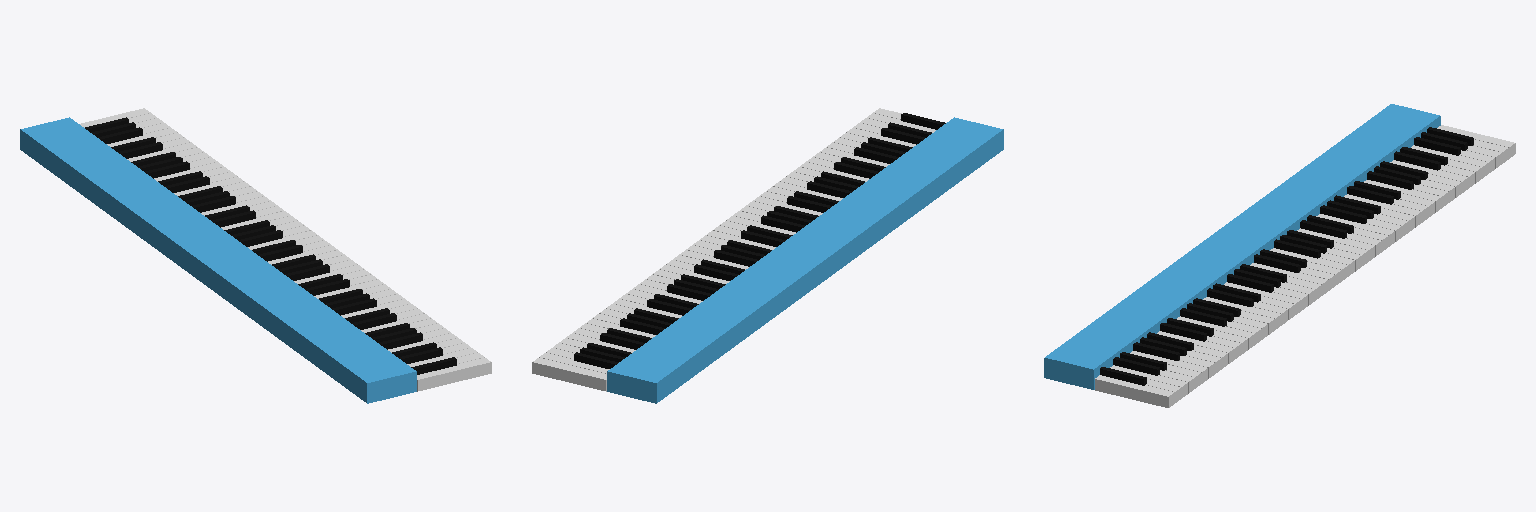
--- Render facts (derived) ---
Views: 3 orthographic renders of the robot side by side, from view 1: azimuth 30°, elevation 25°; view 2: azimuth 150°, elevation 25°; view 3: azimuth 330°, elevation 25°.
Robot: piano — 90 links, 89 joints (88 revolute, 1 fixed); root link base; default pose: every joint at zero.
Links seen in each view (by area): view 1: body, white_key_0; view 2: body, white_key_87; view 3: body, white_key_0.
Link boxes in pixels (box(x1,y1,x2,y2)): body: box(20, 117, 416, 403); white_key_0: box(417, 358, 491, 391); body: box(607, 117, 1003, 403); white_key_87: box(532, 358, 606, 391); body: box(1044, 104, 1440, 389); white_key_0: box(1095, 375, 1174, 407).
Size in the robot's own frame: 0.252 by 1.22 by 0.04 metres.
Geometry: primitives only (box / cylinder / sphere), no mesh files.

robot.urdf — piano:
<?xml version="1.0" encoding="utf-8"?>
<robot name="piano">
  <material name="white">
    <color rgba="0.9 0.9 0.9 1" />
  </material>
  <material name="black">
    <color rgba="0.1 0.1 0.1 1" />
  </material>

  <!-- Base link -->
  <link name="base">
  </link>

  <!-- Piano body -->
  <link name="body">
    <visual>
      <origin xyz="-0.127 0 0.02" rpy="0 0 0" />
      <geometry>
        <box size="0.1 1.2209999999999999 0.04" />
      </geometry>
    </visual>
    <collision>
      <origin xyz="-0.127 0 0.02" rpy="0 0 0" />
      <geometry>
        <box size="0.1 1.2209999999999999 0.04" />
      </geometry>
    </collision>
    <inertial>
      <origin xyz="-0.127 0 0.02" rpy="0 0 0" />
      <mass value="10.0" />
      <inertia ixx="0.1" ixy="0.0" ixz="0.0" iyy="0.1" iyz="0.0" izz="0.1" />
    </inertial>
  </link>

  <joint name="base_body_joint" type="fixed">
    <parent link="base" />
    <child link="body" />
    <origin xyz="0 0 0" rpy="0 0 0" />
  </joint>

  <link name="white_key_0">
    <visual>
      <origin xyz="0.075 0 0" rpy="0 0 0" />
      <geometry>
        <box size="0.15 0.0225 0.0225" />
      </geometry>
      <material name="white" />
    </visual>
    <collision>
      <origin xyz="0.075 0 0" rpy="0 0 0" />
      <geometry>
        <box size="0.15 0.0225 0.0225" />
      </geometry>
    </collision>
    <inertial>
      <origin xyz="0.075 0 0" rpy="0 0 0" />
      <mass value="0.04" />
      <inertia ixx="3.3750000000000003e-06" ixy="0.0" ixz="0.0" iyy="7.66875e-05" iyz="0.0" izz="7.66875e-05" />
    </inertial>
  </link>

  <joint name="white_key_0_joint" type="revolute">
    <parent link="base" />
    <child link="white_key_0" />
    <origin xyz="-0.075 -0.59925 0.01125" rpy="0 0 0" />
    <axis xyz="0 1 0" />
    <limit lower="0" upper="0.06656816377582381" effort="10.00" velocity="6.67" />
  </joint>

  <link name="white_key_2">
    <visual>
      <origin xyz="0.075 0 0" rpy="0 0 0" />
      <geometry>
        <box size="0.15 0.0225 0.0225" />
      </geometry>
      <material name="white" />
    </visual>
    <collision>
      <origin xyz="0.075 0 0" rpy="0 0 0" />
      <geometry>
        <box size="0.15 0.0225 0.0225" />
      </geometry>
    </collision>
    <inertial>
      <origin xyz="0.075 0 0" rpy="0 0 0" />
      <mass value="0.04" />
      <inertia ixx="3.3750000000000003e-06" ixy="0.0" ixz="0.0" iyy="7.66875e-05" iyz="0.0" izz="7.66875e-05" />
    </inertial>
  </link>

  <joint name="white_key_2_joint" type="revolute">
    <parent link="base" />
    <child link="white_key_2" />
    <origin xyz="-0.075 -0.57575 0.01125" rpy="0 0 0" />
    <axis xyz="0 1 0" />
    <limit lower="0" upper="0.06656816377582381" effort="10.00" velocity="6.67" />
  </joint>

  <link name="white_key_3">
    <visual>
      <origin xyz="0.075 0 0" rpy="0 0 0" />
      <geometry>
        <box size="0.15 0.0225 0.0225" />
      </geometry>
      <material name="white" />
    </visual>
    <collision>
      <origin xyz="0.075 0 0" rpy="0 0 0" />
      <geometry>
        <box size="0.15 0.0225 0.0225" />
      </geometry>
    </collision>
    <inertial>
      <origin xyz="0.075 0 0" rpy="0 0 0" />
      <mass value="0.04" />
      <inertia ixx="3.3750000000000003e-06" ixy="0.0" ixz="0.0" iyy="7.66875e-05" iyz="0.0" izz="7.66875e-05" />
    </inertial>
  </link>

  <joint name="white_key_3_joint" type="revolute">
    <parent link="base" />
    <child link="white_key_3" />
    <origin xyz="-0.075 -0.5522499999999999 0.01125" rpy="0 0 0" />
    <axis xyz="0 1 0" />
    <limit lower="0" upper="0.06656816377582381" effort="10.00" velocity="6.67" />
  </joint>

  <link name="white_key_5">
    <visual>
      <origin xyz="0.075 0 0" rpy="0 0 0" />
      <geometry>
        <box size="0.15 0.0225 0.0225" />
      </geometry>
      <material name="white" />
    </visual>
    <collision>
      <origin xyz="0.075 0 0" rpy="0 0 0" />
      <geometry>
        <box size="0.15 0.0225 0.0225" />
      </geometry>
    </collision>
    <inertial>
      <origin xyz="0.075 0 0" rpy="0 0 0" />
      <mass value="0.04" />
      <inertia ixx="3.3750000000000003e-06" ixy="0.0" ixz="0.0" iyy="7.66875e-05" iyz="0.0" izz="7.66875e-05" />
    </inertial>
  </link>

  <joint name="white_key_5_joint" type="revolute">
    <parent link="base" />
    <child link="white_key_5" />
    <origin xyz="-0.075 -0.5287499999999999 0.01125" rpy="0 0 0" />
    <axis xyz="0 1 0" />
    <limit lower="0" upper="0.06656816377582381" effort="10.00" velocity="6.67" />
  </joint>

  <link name="white_key_7">
    <visual>
      <origin xyz="0.075 0 0" rpy="0 0 0" />
      <geometry>
        <box size="0.15 0.0225 0.0225" />
      </geometry>
      <material name="white" />
    </visual>
    <collision>
      <origin xyz="0.075 0 0" rpy="0 0 0" />
      <geometry>
        <box size="0.15 0.0225 0.0225" />
      </geometry>
    </collision>
    <inertial>
      <origin xyz="0.075 0 0" rpy="0 0 0" />
      <mass value="0.04" />
      <inertia ixx="3.3750000000000003e-06" ixy="0.0" ixz="0.0" iyy="7.66875e-05" iyz="0.0" izz="7.66875e-05" />
    </inertial>
  </link>

  <joint name="white_key_7_joint" type="revolute">
    <parent link="base" />
    <child link="white_key_7" />
    <origin xyz="-0.075 -0.50525 0.01125" rpy="0 0 0" />
    <axis xyz="0 1 0" />
    <limit lower="0" upper="0.06656816377582381" effort="10.00" velocity="6.67" />
  </joint>

  <link name="white_key_8">
    <visual>
      <origin xyz="0.075 0 0" rpy="0 0 0" />
      <geometry>
        <box size="0.15 0.0225 0.0225" />
      </geometry>
      <material name="white" />
    </visual>
    <collision>
      <origin xyz="0.075 0 0" rpy="0 0 0" />
      <geometry>
        <box size="0.15 0.0225 0.0225" />
      </geometry>
    </collision>
    <inertial>
      <origin xyz="0.075 0 0" rpy="0 0 0" />
      <mass value="0.04" />
      <inertia ixx="3.3750000000000003e-06" ixy="0.0" ixz="0.0" iyy="7.66875e-05" iyz="0.0" izz="7.66875e-05" />
    </inertial>
  </link>

  <joint name="white_key_8_joint" type="revolute">
    <parent link="base" />
    <child link="white_key_8" />
    <origin xyz="-0.075 -0.48174999999999996 0.01125" rpy="0 0 0" />
    <axis xyz="0 1 0" />
    <limit lower="0" upper="0.06656816377582381" effort="10.00" velocity="6.67" />
  </joint>

  <link name="white_key_10">
    <visual>
      <origin xyz="0.075 0 0" rpy="0 0 0" />
      <geometry>
        <box size="0.15 0.0225 0.0225" />
      </geometry>
      <material name="white" />
    </visual>
    <collision>
      <origin xyz="0.075 0 0" rpy="0 0 0" />
      <geometry>
        <box size="0.15 0.0225 0.0225" />
      </geometry>
    </collision>
    <inertial>
      <origin xyz="0.075 0 0" rpy="0 0 0" />
      <mass value="0.04" />
      <inertia ixx="3.3750000000000003e-06" ixy="0.0" ixz="0.0" iyy="7.66875e-05" iyz="0.0" izz="7.66875e-05" />
    </inertial>
  </link>

  <joint name="white_key_10_joint" type="revolute">
    <parent link="base" />
    <child link="white_key_10" />
    <origin xyz="-0.075 -0.45824999999999994 0.01125" rpy="0 0 0" />
    <axis xyz="0 1 0" />
    <limit lower="0" upper="0.06656816377582381" effort="10.00" velocity="6.67" />
  </joint>

  <link name="white_key_12">
    <visual>
      <origin xyz="0.075 0 0" rpy="0 0 0" />
      <geometry>
        <box size="0.15 0.0225 0.0225" />
      </geometry>
      <material name="white" />
    </visual>
    <collision>
      <origin xyz="0.075 0 0" rpy="0 0 0" />
      <geometry>
        <box size="0.15 0.0225 0.0225" />
      </geometry>
    </collision>
    <inertial>
      <origin xyz="0.075 0 0" rpy="0 0 0" />
      <mass value="0.04" />
      <inertia ixx="3.3750000000000003e-06" ixy="0.0" ixz="0.0" iyy="7.66875e-05" iyz="0.0" izz="7.66875e-05" />
    </inertial>
  </link>

  <joint name="white_key_12_joint" type="revolute">
    <parent link="base" />
    <child link="white_key_12" />
    <origin xyz="-0.075 -0.43474999999999997 0.01125" rpy="0 0 0" />
    <axis xyz="0 1 0" />
    <limit lower="0" upper="0.06656816377582381" effort="10.00" velocity="6.67" />
  </joint>

  <link name="white_key_14">
    <visual>
      <origin xyz="0.075 0 0" rpy="0 0 0" />
      <geometry>
        <box size="0.15 0.0225 0.0225" />
      </geometry>
      <material name="white" />
    </visual>
    <collision>
      <origin xyz="0.075 0 0" rpy="0 0 0" />
      <geometry>
        <box size="0.15 0.0225 0.0225" />
      </geometry>
    </collision>
    <inertial>
      <origin xyz="0.075 0 0" rpy="0 0 0" />
      <mass value="0.04" />
      <inertia ixx="3.3750000000000003e-06" ixy="0.0" ixz="0.0" iyy="7.66875e-05" iyz="0.0" izz="7.66875e-05" />
    </inertial>
  </link>

  <joint name="white_key_14_joint" type="revolute">
    <parent link="base" />
    <child link="white_key_14" />
    <origin xyz="-0.075 -0.41124999999999995 0.01125" rpy="0 0 0" />
    <axis xyz="0 1 0" />
    <limit lower="0" upper="0.06656816377582381" effort="10.00" velocity="6.67" />
  </joint>

  <link name="white_key_15">
    <visual>
      <origin xyz="0.075 0 0" rpy="0 0 0" />
      <geometry>
        <box size="0.15 0.0225 0.0225" />
      </geometry>
      <material name="white" />
    </visual>
    <collision>
      <origin xyz="0.075 0 0" rpy="0 0 0" />
      <geometry>
        <box size="0.15 0.0225 0.0225" />
      </geometry>
    </collision>
    <inertial>
      <origin xyz="0.075 0 0" rpy="0 0 0" />
      <mass value="0.04" />
      <inertia ixx="3.3750000000000003e-06" ixy="0.0" ixz="0.0" iyy="7.66875e-05" iyz="0.0" izz="7.66875e-05" />
    </inertial>
  </link>

  <joint name="white_key_15_joint" type="revolute">
    <parent link="base" />
    <child link="white_key_15" />
    <origin xyz="-0.075 -0.38774999999999993 0.01125" rpy="0 0 0" />
    <axis xyz="0 1 0" />
    <limit lower="0" upper="0.06656816377582381" effort="10.00" velocity="6.67" />
  </joint>

  <link name="white_key_17">
    <visual>
      <origin xyz="0.075 0 0" rpy="0 0 0" />
      <geometry>
        <box size="0.15 0.0225 0.0225" />
      </geometry>
      <material name="white" />
    </visual>
    <collision>
      <origin xyz="0.075 0 0" rpy="0 0 0" />
      <geometry>
        <box size="0.15 0.0225 0.0225" />
      </geometry>
    </collision>
    <inertial>
      <origin xyz="0.075 0 0" rpy="0 0 0" />
      <mass value="0.04" />
      <inertia ixx="3.3750000000000003e-06" ixy="0.0" ixz="0.0" iyy="7.66875e-05" iyz="0.0" izz="7.66875e-05" />
    </inertial>
  </link>

  <joint name="white_key_17_joint" type="revolute">
    <parent link="base" />
    <child link="white_key_17" />
    <origin xyz="-0.075 -0.36424999999999996 0.01125" rpy="0 0 0" />
    <axis xyz="0 1 0" />
    <limit lower="0" upper="0.06656816377582381" effort="10.00" velocity="6.67" />
  </joint>

  <link name="white_key_19">
    <visual>
      <origin xyz="0.075 0 0" rpy="0 0 0" />
      <geometry>
        <box size="0.15 0.0225 0.0225" />
      </geometry>
      <material name="white" />
    </visual>
    <collision>
      <origin xyz="0.075 0 0" rpy="0 0 0" />
      <geometry>
        <box size="0.15 0.0225 0.0225" />
      </geometry>
    </collision>
    <inertial>
      <origin xyz="0.075 0 0" rpy="0 0 0" />
      <mass value="0.04" />
      <inertia ixx="3.3750000000000003e-06" ixy="0.0" ixz="0.0" iyy="7.66875e-05" iyz="0.0" izz="7.66875e-05" />
    </inertial>
  </link>

  <joint name="white_key_19_joint" type="revolute">
    <parent link="base" />
    <child link="white_key_19" />
    <origin xyz="-0.075 -0.34074999999999994 0.01125" rpy="0 0 0" />
    <axis xyz="0 1 0" />
    <limit lower="0" upper="0.06656816377582381" effort="10.00" velocity="6.67" />
  </joint>

  <link name="white_key_20">
    <visual>
      <origin xyz="0.075 0 0" rpy="0 0 0" />
      <geometry>
        <box size="0.15 0.0225 0.0225" />
      </geometry>
      <material name="white" />
    </visual>
    <collision>
      <origin xyz="0.075 0 0" rpy="0 0 0" />
      <geometry>
        <box size="0.15 0.0225 0.0225" />
      </geometry>
    </collision>
    <inertial>
      <origin xyz="0.075 0 0" rpy="0 0 0" />
      <mass value="0.04" />
      <inertia ixx="3.3750000000000003e-06" ixy="0.0" ixz="0.0" iyy="7.66875e-05" iyz="0.0" izz="7.66875e-05" />
    </inertial>
  </link>

  <joint name="white_key_20_joint" type="revolute">
    <parent link="base" />
    <child link="white_key_20" />
    <origin xyz="-0.075 -0.3172499999999999 0.01125" rpy="0 0 0" />
    <axis xyz="0 1 0" />
    <limit lower="0" upper="0.06656816377582381" effort="10.00" velocity="6.67" />
  </joint>

  <link name="white_key_22">
    <visual>
      <origin xyz="0.075 0 0" rpy="0 0 0" />
      <geometry>
        <box size="0.15 0.0225 0.0225" />
      </geometry>
      <material name="white" />
    </visual>
    <collision>
      <origin xyz="0.075 0 0" rpy="0 0 0" />
      <geometry>
        <box size="0.15 0.0225 0.0225" />
      </geometry>
    </collision>
    <inertial>
      <origin xyz="0.075 0 0" rpy="0 0 0" />
      <mass value="0.04" />
      <inertia ixx="3.3750000000000003e-06" ixy="0.0" ixz="0.0" iyy="7.66875e-05" iyz="0.0" izz="7.66875e-05" />
    </inertial>
  </link>

  <joint name="white_key_22_joint" type="revolute">
    <parent link="base" />
    <child link="white_key_22" />
    <origin xyz="-0.075 -0.29374999999999996 0.01125" rpy="0 0 0" />
    <axis xyz="0 1 0" />
    <limit lower="0" upper="0.06656816377582381" effort="10.00" velocity="6.67" />
  </joint>

  <link name="white_key_24">
    <visual>
      <origin xyz="0.075 0 0" rpy="0 0 0" />
      <geometry>
        <box size="0.15 0.0225 0.0225" />
      </geometry>
      <material name="white" />
    </visual>
    <collision>
      <origin xyz="0.075 0 0" rpy="0 0 0" />
      <geometry>
        <box size="0.15 0.0225 0.0225" />
      </geometry>
    </collision>
    <inertial>
      <origin xyz="0.075 0 0" rpy="0 0 0" />
      <mass value="0.04" />
      <inertia ixx="3.3750000000000003e-06" ixy="0.0" ixz="0.0" iyy="7.66875e-05" iyz="0.0" izz="7.66875e-05" />
    </inertial>
  </link>

  <joint name="white_key_24_joint" type="revolute">
    <parent link="base" />
    <child link="white_key_24" />
    <origin xyz="-0.075 -0.27024999999999993 0.01125" rpy="0 0 0" />
    <axis xyz="0 1 0" />
    <limit lower="0" upper="0.06656816377582381" effort="10.00" velocity="6.67" />
  </joint>

  <link name="white_key_26">
    <visual>
      <origin xyz="0.075 0 0" rpy="0 0 0" />
      <geometry>
        <box size="0.15 0.0225 0.0225" />
      </geometry>
      <material name="white" />
    </visual>
    <collision>
      <origin xyz="0.075 0 0" rpy="0 0 0" />
      <geometry>
        <box size="0.15 0.0225 0.0225" />
      </geometry>
    </collision>
    <inertial>
      <origin xyz="0.075 0 0" rpy="0 0 0" />
      <mass value="0.04" />
      <inertia ixx="3.3750000000000003e-06" ixy="0.0" ixz="0.0" iyy="7.66875e-05" iyz="0.0" izz="7.66875e-05" />
    </inertial>
  </link>

  <joint name="white_key_26_joint" type="revolute">
    <parent link="base" />
    <child link="white_key_26" />
    <origin xyz="-0.075 -0.24674999999999997 0.01125" rpy="0 0 0" />
    <axis xyz="0 1 0" />
    <limit lower="0" upper="0.06656816377582381" effort="10.00" velocity="6.67" />
  </joint>

  <link name="white_key_27">
    <visual>
      <origin xyz="0.075 0 0" rpy="0 0 0" />
      <geometry>
        <box size="0.15 0.0225 0.0225" />
      </geometry>
      <material name="white" />
    </visual>
    <collision>
      <origin xyz="0.075 0 0" rpy="0 0 0" />
      <geometry>
        <box size="0.15 0.0225 0.0225" />
      </geometry>
    </collision>
    <inertial>
      <origin xyz="0.075 0 0" rpy="0 0 0" />
      <mass value="0.04" />
      <inertia ixx="3.3750000000000003e-06" ixy="0.0" ixz="0.0" iyy="7.66875e-05" iyz="0.0" izz="7.66875e-05" />
    </inertial>
  </link>

  <joint name="white_key_27_joint" type="revolute">
    <parent link="base" />
    <child link="white_key_27" />
    <origin xyz="-0.075 -0.22324999999999995 0.01125" rpy="0 0 0" />
    <axis xyz="0 1 0" />
    <limit lower="0" upper="0.06656816377582381" effort="10.00" velocity="6.67" />
  </joint>

  <link name="white_key_29">
    <visual>
      <origin xyz="0.075 0 0" rpy="0 0 0" />
      <geometry>
        <box size="0.15 0.0225 0.0225" />
      </geometry>
      <material name="white" />
    </visual>
    <collision>
      <origin xyz="0.075 0 0" rpy="0 0 0" />
      <geometry>
        <box size="0.15 0.0225 0.0225" />
      </geometry>
    </collision>
    <inertial>
      <origin xyz="0.075 0 0" rpy="0 0 0" />
      <mass value="0.04" />
      <inertia ixx="3.3750000000000003e-06" ixy="0.0" ixz="0.0" iyy="7.66875e-05" iyz="0.0" izz="7.66875e-05" />
    </inertial>
  </link>

  <joint name="white_key_29_joint" type="revolute">
    <parent link="base" />
    <child link="white_key_29" />
    <origin xyz="-0.075 -0.19974999999999993 0.01125" rpy="0 0 0" />
    <axis xyz="0 1 0" />
    <limit lower="0" upper="0.06656816377582381" effort="10.00" velocity="6.67" />
  </joint>

  <link name="white_key_31">
    <visual>
      <origin xyz="0.075 0 0" rpy="0 0 0" />
      <geometry>
        <box size="0.15 0.0225 0.0225" />
      </geometry>
      <material name="white" />
    </visual>
    <collision>
      <origin xyz="0.075 0 0" rpy="0 0 0" />
      <geometry>
        <box size="0.15 0.0225 0.0225" />
      </geometry>
    </collision>
    <inertial>
      <origin xyz="0.075 0 0" rpy="0 0 0" />
      <mass value="0.04" />
      <inertia ixx="3.3750000000000003e-06" ixy="0.0" ixz="0.0" iyy="7.66875e-05" iyz="0.0" izz="7.66875e-05" />
    </inertial>
  </link>

  <joint name="white_key_31_joint" type="revolute">
    <parent link="base" />
    <child link="white_key_31" />
    <origin xyz="-0.075 -0.17624999999999996 0.01125" rpy="0 0 0" />
    <axis xyz="0 1 0" />
    <limit lower="0" upper="0.06656816377582381" effort="10.00" velocity="6.67" />
  </joint>

  <link name="white_key_32">
    <visual>
      <origin xyz="0.075 0 0" rpy="0 0 0" />
      <geometry>
        <box size="0.15 0.0225 0.0225" />
      </geometry>
      <material name="white" />
    </visual>
    <collision>
      <origin xyz="0.075 0 0" rpy="0 0 0" />
      <geometry>
        <box size="0.15 0.0225 0.0225" />
      </geometry>
    </collision>
    <inertial>
      <origin xyz="0.075 0 0" rpy="0 0 0" />
      <mass value="0.04" />
      <inertia ixx="3.3750000000000003e-06" ixy="0.0" ixz="0.0" iyy="7.66875e-05" iyz="0.0" izz="7.66875e-05" />
    </inertial>
  </link>

  <joint name="white_key_32_joint" type="revolute">
    <parent link="base" />
    <child link="white_key_32" />
    <origin xyz="-0.075 -0.15274999999999994 0.01125" rpy="0 0 0" />
    <axis xyz="0 1 0" />
    <limit lower="0" upper="0.06656816377582381" effort="10.00" velocity="6.67" />
  </joint>

  <link name="white_key_34">
    <visual>
      <origin xyz="0.075 0 0" rpy="0 0 0" />
      <geometry>
        <box size="0.15 0.0225 0.0225" />
      </geometry>
      <material name="white" />
    </visual>
    <collision>
      <origin xyz="0.075 0 0" rpy="0 0 0" />
      <geometry>
        <box size="0.15 0.0225 0.0225" />
      </geometry>
    </collision>
    <inertial>
      <origin xyz="0.075 0 0" rpy="0 0 0" />
      <mass value="0.04" />
      <inertia ixx="3.3750000000000003e-06" ixy="0.0" ixz="0.0" iyy="7.66875e-05" iyz="0.0" izz="7.66875e-05" />
    </inertial>
  </link>

  <joint name="white_key_34_joint" type="revolute">
    <parent link="base" />
    <child link="white_key_34" />
    <origin xyz="-0.075 -0.12924999999999998 0.01125" rpy="0 0 0" />
    <axis xyz="0 1 0" />
    <limit lower="0" upper="0.06656816377582381" effort="10.00" velocity="6.67" />
  </joint>

  <link name="white_key_36">
    <visual>
      <origin xyz="0.075 0 0" rpy="0 0 0" />
      <geometry>
        <box size="0.15 0.0225 0.0225" />
      </geometry>
      <material name="white" />
    </visual>
    <collision>
      <origin xyz="0.075 0 0" rpy="0 0 0" />
      <geometry>
        <box size="0.15 0.0225 0.0225" />
      </geometry>
    </collision>
    <inertial>
      <origin xyz="0.075 0 0" rpy="0 0 0" />
      <mass value="0.04" />
      <inertia ixx="3.3750000000000003e-06" ixy="0.0" ixz="0.0" iyy="7.66875e-05" iyz="0.0" izz="7.66875e-05" />
    </inertial>
  </link>

  <joint name="white_key_36_joint" type="revolute">
    <parent link="base" />
    <child link="white_key_36" />
    <origin xyz="-0.075 -0.10574999999999996 0.01125" rpy="0 0 0" />
    <axis xyz="0 1 0" />
    <limit lower="0" upper="0.06656816377582381" effort="10.00" velocity="6.67" />
  </joint>

  <link name="white_key_38">
    <visual>
      <origin xyz="0.075 0 0" rpy="0 0 0" />
      <geometry>
        <box size="0.15 0.0225 0.0225" />
      </geometry>
      <material name="white" />
    </visual>
    <collision>
      <origin xyz="0.075 0 0" rpy="0 0 0" />
      <geometry>
        <box size="0.15 0.0225 0.0225" />
      </geometry>
    </collision>
    <inertial>
      <origin xyz="0.075 0 0" rpy="0 0 0" />
      <mass value="0.04" />
      <inertia ixx="3.3750000000000003e-06" ixy="0.0" ixz="0.0" iyy="7.66875e-05" iyz="0.0" izz="7.66875e-05" />
    </inertial>
  </link>

  <joint name="white_key_38_joint" type="revolute">
    <parent link="base" />
    <child link="white_key_38" />
    <origin xyz="-0.075 -0.08224999999999993 0.01125" rpy="0 0 0" />
    <axis xyz="0 1 0" />
    <limit lower="0" upper="0.06656816377582381" effort="10.00" velocity="6.67" />
  </joint>

  <link name="white_key_39">
    <visual>
      <origin xyz="0.075 0 0" rpy="0 0 0" />
      <geometry>
        <box size="0.15 0.0225 0.0225" />
      </geometry>
      <material name="white" />
    </visual>
    <collision>
      <origin xyz="0.075 0 0" rpy="0 0 0" />
      <geometry>
        <box size="0.15 0.0225 0.0225" />
      </geometry>
    </collision>
    <inertial>
      <origin xyz="0.075 0 0" rpy="0 0 0" />
      <mass value="0.04" />
      <inertia ixx="3.3750000000000003e-06" ixy="0.0" ixz="0.0" iyy="7.66875e-05" iyz="0.0" izz="7.66875e-05" />
    </inertial>
  </link>

  <joint name="white_key_39_joint" type="revolute">
    <parent link="base" />
    <child link="white_key_39" />
    <origin xyz="-0.075 -0.05874999999999997 0.01125" rpy="0 0 0" />
    <axis xyz="0 1 0" />
    <limit lower="0" upper="0.06656816377582381" effort="10.00" velocity="6.67" />
  </joint>

  <link name="white_key_41">
    <visual>
      <origin xyz="0.075 0 0" rpy="0 0 0" />
      <geometry>
        <box size="0.15 0.0225 0.0225" />
      </geometry>
      <material name="white" />
    </visual>
    <collision>
      <origin xyz="0.075 0 0" rpy="0 0 0" />
      <geometry>
        <box size="0.15 0.0225 0.0225" />
      </geometry>
    </collision>
    <inertial>
      <origin xyz="0.075 0 0" rpy="0 0 0" />
      <mass value="0.04" />
      <inertia ixx="3.3750000000000003e-06" ixy="0.0" ixz="0.0" iyy="7.66875e-05" iyz="0.0" izz="7.66875e-05" />
    </inertial>
  </link>

  <joint name="white_key_41_joint" type="revolute">
    <parent link="base" />
    <child link="white_key_41" />
    <origin xyz="-0.075 -0.03524999999999989 0.01125" rpy="0 0 0" />
    <axis xyz="0 1 0" />
    <limit lower="0" upper="0.06656816377582381" effort="10.00" velocity="6.67" />
  </joint>

  <link name="white_key_43">
    <visual>
      <origin xyz="0.075 0 0" rpy="0 0 0" />
      <geometry>
        <box size="0.15 0.0225 0.0225" />
      </geometry>
      <material name="white" />
    </visual>
    <collision>
      <origin xyz="0.075 0 0" rpy="0 0 0" />
      <geometry>
        <box size="0.15 0.0225 0.0225" />
      </geometry>
    </collision>
    <inertial>
      <origin xyz="0.075 0 0" rpy="0 0 0" />
      <mass value="0.04" />
      <inertia ixx="3.3750000000000003e-06" ixy="0.0" ixz="0.0" iyy="7.66875e-05" iyz="0.0" izz="7.66875e-05" />
    </inertial>
  </link>

  <joint name="white_key_43_joint" type="revolute">
    <parent link="base" />
    <child link="white_key_43" />
    <origin xyz="-0.075 -0.011749999999999927 0.01125" rpy="0 0 0" />
    <axis xyz="0 1 0" />
    <limit lower="0" upper="0.06656816377582381" effort="10.00" velocity="6.67" />
  </joint>

  <link name="white_key_44">
    <visual>
      <origin xyz="0.075 0 0" rpy="0 0 0" />
      <geometry>
        <box size="0.15 0.0225 0.0225" />
      </geometry>
      <material name="white" />
    </visual>
    <collision>
      <origin xyz="0.075 0 0" rpy="0 0 0" />
      <geometry>
        <box size="0.15 0.0225 0.0225" />
      </geometry>
    </collision>
    <inertial>
      <origin xyz="0.075 0 0" rpy="0 0 0" />
      <mass value="0.04" />
      <inertia ixx="3.3750000000000003e-06" ixy="0.0" ixz="0.0" iyy="7.66875e-05" iyz="0.0" izz="7.66875e-05" />
    </inertial>
  </link>

  <joint name="white_key_44_joint" type="revolute">
    <parent link="base" />
    <child link="white_key_44" />
    <origin xyz="-0.075 0.011750000000000038 0.01125" rpy="0 0 0" />
    <axis xyz="0 1 0" />
    <limit lower="0" upper="0.06656816377582381" effort="10.00" velocity="6.67" />
  </joint>

  <link name="white_key_46">
    <visual>
      <origin xyz="0.075 0 0" rpy="0 0 0" />
      <geometry>
        <box size="0.15 0.0225 0.0225" />
      </geometry>
      <material name="white" />
    </visual>
    <collision>
      <origin xyz="0.075 0 0" rpy="0 0 0" />
      <geometry>
        <box size="0.15 0.0225 0.0225" />
      </geometry>
    </collision>
    <inertial>
      <origin xyz="0.075 0 0" rpy="0 0 0" />
      <mass value="0.04" />
      <inertia ixx="3.3750000000000003e-06" ixy="0.0" ixz="0.0" iyy="7.66875e-05" iyz="0.0" izz="7.66875e-05" />
    </inertial>
  </link>

  <joint name="white_key_46_joint" type="revolute">
    <parent link="base" />
    <child link="white_key_46" />
    <origin xyz="-0.075 0.035250000000000004 0.01125" rpy="0 0 0" />
    <axis xyz="0 1 0" />
    <limit lower="0" upper="0.06656816377582381" effort="10.00" velocity="6.67" />
  </joint>

  <link name="white_key_48">
    <visual>
      <origin xyz="0.075 0 0" rpy="0 0 0" />
      <geometry>
        <box size="0.15 0.0225 0.0225" />
      </geometry>
      <material name="white" />
    </visual>
    <collision>
      <origin xyz="0.075 0 0" rpy="0 0 0" />
      <geometry>
        <box size="0.15 0.0225 0.0225" />
      </geometry>
    </collision>
    <inertial>
      <origin xyz="0.075 0 0" rpy="0 0 0" />
      <mass value="0.04" />
      <inertia ixx="3.3750000000000003e-06" ixy="0.0" ixz="0.0" iyy="7.66875e-05" iyz="0.0" izz="7.66875e-05" />
    </inertial>
  </link>

  <joint name="white_key_48_joint" type="revolute">
    <parent link="base" />
    <child link="white_key_48" />
    <origin xyz="-0.075 0.05875000000000008 0.01125" rpy="0 0 0" />
    <axis xyz="0 1 0" />
    <limit lower="0" upper="0.06656816377582381" effort="10.00" velocity="6.67" />
  </joint>

  <link name="white_key_50">
    <visual>
      <origin xyz="0.075 0 0" rpy="0 0 0" />
      <geometry>
        <box size="0.15 0.0225 0.0225" />
      </geometry>
      <material name="white" />
    </visual>
    <collision>
      <origin xyz="0.075 0 0" rpy="0 0 0" />
      <geometry>
        <box size="0.15 0.0225 0.0225" />
      </geometry>
    </collision>
    <inertial>
      <origin xyz="0.075 0 0" rpy="0 0 0" />
      <mass value="0.04" />
      <inertia ixx="3.3750000000000003e-06" ixy="0.0" ixz="0.0" iyy="7.66875e-05" iyz="0.0" izz="7.66875e-05" />
    </inertial>
  </link>

  <joint name="white_key_50_joint" type="revolute">
    <parent link="base" />
    <child link="white_key_50" />
    <origin xyz="-0.075 0.08225000000000005 0.01125" rpy="0 0 0" />
    <axis xyz="0 1 0" />
    <limit lower="0" upper="0.06656816377582381" effort="10.00" velocity="6.67" />
  </joint>

  <link name="white_key_51">
    <visual>
      <origin xyz="0.075 0 0" rpy="0 0 0" />
      <geometry>
        <box size="0.15 0.0225 0.0225" />
      </geometry>
      <material name="white" />
    </visual>
    <collision>
      <origin xyz="0.075 0 0" rpy="0 0 0" />
      <geometry>
        <box size="0.15 0.0225 0.0225" />
      </geometry>
    </collision>
    <inertial>
      <origin xyz="0.075 0 0" rpy="0 0 0" />
      <mass value="0.04" />
      <inertia ixx="3.3750000000000003e-06" ixy="0.0" ixz="0.0" iyy="7.66875e-05" iyz="0.0" izz="7.66875e-05" />
    </inertial>
  </link>

  <joint name="white_key_51_joint" type="revolute">
    <parent link="base" />
    <child link="white_key_51" />
    <origin xyz="-0.075 0.10575000000000001 0.01125" rpy="0 0 0" />
    <axis xyz="0 1 0" />
    <limit lower="0" upper="0.06656816377582381" effort="10.00" velocity="6.67" />
  </joint>

  <link name="white_key_53">
    <visual>
      <origin xyz="0.075 0 0" rpy="0 0 0" />
      <geometry>
        <box size="0.15 0.0225 0.0225" />
      </geometry>
      <material name="white" />
    </visual>
    <collision>
      <origin xyz="0.075 0 0" rpy="0 0 0" />
      <geometry>
        <box size="0.15 0.0225 0.0225" />
      </geometry>
    </collision>
    <inertial>
      <origin xyz="0.075 0 0" rpy="0 0 0" />
      <mass value="0.04" />
      <inertia ixx="3.3750000000000003e-06" ixy="0.0" ixz="0.0" iyy="7.66875e-05" iyz="0.0" izz="7.66875e-05" />
    </inertial>
  </link>

  <joint name="white_key_53_joint" type="revolute">
    <parent link="base" />
    <child link="white_key_53" />
    <origin xyz="-0.075 0.1292500000000001 0.01125" rpy="0 0 0" />
    <axis xyz="0 1 0" />
    <limit lower="0" upper="0.06656816377582381" effort="10.00" velocity="6.67" />
  </joint>

  <link name="white_key_55">
    <visual>
      <origin xyz="0.075 0 0" rpy="0 0 0" />
      <geometry>
        <box size="0.15 0.0225 0.0225" />
      </geometry>
      <material name="white" />
    </visual>
    <collision>
      <origin xyz="0.075 0 0" rpy="0 0 0" />
      <geometry>
        <box size="0.15 0.0225 0.0225" />
      </geometry>
    </collision>
    <inertial>
      <origin xyz="0.075 0 0" rpy="0 0 0" />
      <mass value="0.04" />
      <inertia ixx="3.3750000000000003e-06" ixy="0.0" ixz="0.0" iyy="7.66875e-05" iyz="0.0" izz="7.66875e-05" />
    </inertial>
  </link>

  <joint name="white_key_55_joint" type="revolute">
    <parent link="base" />
    <child link="white_key_55" />
    <origin xyz="-0.075 0.15275000000000005 0.01125" rpy="0 0 0" />
    <axis xyz="0 1 0" />
    <limit lower="0" upper="0.06656816377582381" effort="10.00" velocity="6.67" />
  </joint>

  <link name="white_key_56">
    <visual>
      <origin xyz="0.075 0 0" rpy="0 0 0" />
      <geometry>
        <box size="0.15 0.0225 0.0225" />
      </geometry>
      <material name="white" />
    </visual>
    <collision>
      <origin xyz="0.075 0 0" rpy="0 0 0" />
      <geometry>
        <box size="0.15 0.0225 0.0225" />
      </geometry>
    </collision>
    <inertial>
      <origin xyz="0.075 0 0" rpy="0 0 0" />
      <mass value="0.04" />
      <inertia ixx="3.3750000000000003e-06" ixy="0.0" ixz="0.0" iyy="7.66875e-05" iyz="0.0" izz="7.66875e-05" />
    </inertial>
  </link>

  <joint name="white_key_56_joint" type="revolute">
    <parent link="base" />
    <child link="white_key_56" />
    <origin xyz="-0.075 0.17625000000000002 0.01125" rpy="0 0 0" />
    <axis xyz="0 1 0" />
    <limit lower="0" upper="0.06656816377582381" effort="10.00" velocity="6.67" />
  </joint>

  <link name="white_key_58">
    <visual>
      <origin xyz="0.075 0 0" rpy="0 0 0" />
      <geometry>
        <box size="0.15 0.0225 0.0225" />
      </geometry>
      <material name="white" />
    </visual>
    <collision>
      <origin xyz="0.075 0 0" rpy="0 0 0" />
      <geometry>
        <box size="0.15 0.0225 0.0225" />
      </geometry>
    </collision>
    <inertial>
      <origin xyz="0.075 0 0" rpy="0 0 0" />
      <mass value="0.04" />
      <inertia ixx="3.3750000000000003e-06" ixy="0.0" ixz="0.0" iyy="7.66875e-05" iyz="0.0" izz="7.66875e-05" />
    </inertial>
  </link>

  <joint name="white_key_58_joint" type="revolute">
    <parent link="base" />
    <child link="white_key_58" />
    <origin xyz="-0.075 0.1997500000000001 0.01125" rpy="0 0 0" />
    <axis xyz="0 1 0" />
    <limit lower="0" upper="0.06656816377582381" effort="10.00" velocity="6.67" />
  </joint>

  <link name="white_key_60">
    <visual>
      <origin xyz="0.075 0 0" rpy="0 0 0" />
      <geometry>
        <box size="0.15 0.0225 0.0225" />
      </geometry>
      <material name="white" />
    </visual>
    <collision>
      <origin xyz="0.075 0 0" rpy="0 0 0" />
      <geometry>
        <box size="0.15 0.0225 0.0225" />
      </geometry>
    </collision>
    <inertial>
      <origin xyz="0.075 0 0" rpy="0 0 0" />
      <mass value="0.04" />
      <inertia ixx="3.3750000000000003e-06" ixy="0.0" ixz="0.0" iyy="7.66875e-05" iyz="0.0" izz="7.66875e-05" />
    </inertial>
  </link>

  <joint name="white_key_60_joint" type="revolute">
    <parent link="base" />
    <child link="white_key_60" />
    <origin xyz="-0.075 0.22325000000000006 0.01125" rpy="0 0 0" />
    <axis xyz="0 1 0" />
    <limit lower="0" upper="0.06656816377582381" effort="10.00" velocity="6.67" />
  </joint>

  <link name="white_key_62">
    <visual>
      <origin xyz="0.075 0 0" rpy="0 0 0" />
      <geometry>
        <box size="0.15 0.0225 0.0225" />
      </geometry>
      <material name="white" />
    </visual>
    <collision>
      <origin xyz="0.075 0 0" rpy="0 0 0" />
      <geometry>
        <box size="0.15 0.0225 0.0225" />
      </geometry>
    </collision>
    <inertial>
      <origin xyz="0.075 0 0" rpy="0 0 0" />
      <mass value="0.04" />
      <inertia ixx="3.3750000000000003e-06" ixy="0.0" ixz="0.0" iyy="7.66875e-05" iyz="0.0" izz="7.66875e-05" />
    </inertial>
  </link>

  <joint name="white_key_62_joint" type="revolute">
    <parent link="base" />
    <child link="white_key_62" />
    <origin xyz="-0.075 0.24675000000000002 0.01125" rpy="0 0 0" />
    <axis xyz="0 1 0" />
    <limit lower="0" upper="0.06656816377582381" effort="10.00" velocity="6.67" />
  </joint>

  <link name="white_key_63">
    <visual>
      <origin xyz="0.075 0 0" rpy="0 0 0" />
      <geometry>
        <box size="0.15 0.0225 0.0225" />
      </geometry>
      <material name="white" />
    </visual>
    <collision>
      <origin xyz="0.075 0 0" rpy="0 0 0" />
      <geometry>
        <box size="0.15 0.0225 0.0225" />
      </geometry>
    </collision>
    <inertial>
      <origin xyz="0.075 0 0" rpy="0 0 0" />
      <mass value="0.04" />
      <inertia ixx="3.3750000000000003e-06" ixy="0.0" ixz="0.0" iyy="7.66875e-05" iyz="0.0" izz="7.66875e-05" />
    </inertial>
  </link>

  <joint name="white_key_63_joint" type="revolute">
    <parent link="base" />
    <child link="white_key_63" />
    <origin xyz="-0.075 0.2702500000000001 0.01125" rpy="0 0 0" />
    <axis xyz="0 1 0" />
    <limit lower="0" upper="0.06656816377582381" effort="10.00" velocity="6.67" />
  </joint>

  <link name="white_key_65">
    <visual>
      <origin xyz="0.075 0 0" rpy="0 0 0" />
      <geometry>
        <box size="0.15 0.0225 0.0225" />
      </geometry>
      <material name="white" />
    </visual>
    <collision>
      <origin xyz="0.075 0 0" rpy="0 0 0" />
      <geometry>
        <box size="0.15 0.0225 0.0225" />
      </geometry>
    </collision>
    <inertial>
      <origin xyz="0.075 0 0" rpy="0 0 0" />
      <mass value="0.04" />
      <inertia ixx="3.3750000000000003e-06" ixy="0.0" ixz="0.0" iyy="7.66875e-05" iyz="0.0" izz="7.66875e-05" />
    </inertial>
  </link>

  <joint name="white_key_65_joint" type="revolute">
    <parent link="base" />
    <child link="white_key_65" />
    <origin xyz="-0.075 0.29375000000000007 0.01125" rpy="0 0 0" />
    <axis xyz="0 1 0" />
    <limit lower="0" upper="0.06656816377582381" effort="10.00" velocity="6.67" />
  </joint>

  <link name="white_key_67">
    <visual>
      <origin xyz="0.075 0 0" rpy="0 0 0" />
      <geometry>
        <box size="0.15 0.0225 0.0225" />
      </geometry>
      <material name="white" />
    </visual>
    <collision>
      <origin xyz="0.075 0 0" rpy="0 0 0" />
      <geometry>
        <box size="0.15 0.0225 0.0225" />
      </geometry>
    </collision>
    <inertial>
      <origin xyz="0.075 0 0" rpy="0 0 0" />
      <mass value="0.04" />
      <inertia ixx="3.3750000000000003e-06" ixy="0.0" ixz="0.0" iyy="7.66875e-05" iyz="0.0" izz="7.66875e-05" />
    </inertial>
  </link>

  <joint name="white_key_67_joint" type="revolute">
    <parent link="base" />
    <child link="white_key_67" />
    <origin xyz="-0.075 0.31725000000000003 0.01125" rpy="0 0 0" />
    <axis xyz="0 1 0" />
    <limit lower="0" upper="0.06656816377582381" effort="10.00" velocity="6.67" />
  </joint>

  <link name="white_key_68">
    <visual>
      <origin xyz="0.075 0 0" rpy="0 0 0" />
      <geometry>
        <box size="0.15 0.0225 0.0225" />
      </geometry>
      <material name="white" />
    </visual>
    <collision>
      <origin xyz="0.075 0 0" rpy="0 0 0" />
      <geometry>
        <box size="0.15 0.0225 0.0225" />
      </geometry>
    </collision>
    <inertial>
      <origin xyz="0.075 0 0" rpy="0 0 0" />
      <mass value="0.04" />
      <inertia ixx="3.3750000000000003e-06" ixy="0.0" ixz="0.0" iyy="7.66875e-05" iyz="0.0" izz="7.66875e-05" />
    </inertial>
  </link>

  <joint name="white_key_68_joint" type="revolute">
    <parent link="base" />
    <child link="white_key_68" />
    <origin xyz="-0.075 0.34075 0.01125" rpy="0 0 0" />
    <axis xyz="0 1 0" />
    <limit lower="0" upper="0.06656816377582381" effort="10.00" velocity="6.67" />
  </joint>

  <link name="white_key_70">
    <visual>
      <origin xyz="0.075 0 0" rpy="0 0 0" />
      <geometry>
        <box size="0.15 0.0225 0.0225" />
      </geometry>
      <material name="white" />
    </visual>
    <collision>
      <origin xyz="0.075 0 0" rpy="0 0 0" />
      <geometry>
        <box size="0.15 0.0225 0.0225" />
      </geometry>
    </collision>
    <inertial>
      <origin xyz="0.075 0 0" rpy="0 0 0" />
      <mass value="0.04" />
      <inertia ixx="3.3750000000000003e-06" ixy="0.0" ixz="0.0" iyy="7.66875e-05" iyz="0.0" izz="7.66875e-05" />
    </inertial>
  </link>

  <joint name="white_key_70_joint" type="revolute">
    <parent link="base" />
    <child link="white_key_70" />
    <origin xyz="-0.075 0.3642500000000001 0.01125" rpy="0 0 0" />
    <axis xyz="0 1 0" />
    <limit lower="0" upper="0.06656816377582381" effort="10.00" velocity="6.67" />
  </joint>

  <link name="white_key_72">
    <visual>
      <origin xyz="0.075 0 0" rpy="0 0 0" />
      <geometry>
        <box size="0.15 0.0225 0.0225" />
      </geometry>
      <material name="white" />
    </visual>
    <collision>
      <origin xyz="0.075 0 0" rpy="0 0 0" />
      <geometry>
        <box size="0.15 0.0225 0.0225" />
      </geometry>
    </collision>
    <inertial>
      <origin xyz="0.075 0 0" rpy="0 0 0" />
      <mass value="0.04" />
      <inertia ixx="3.3750000000000003e-06" ixy="0.0" ixz="0.0" iyy="7.66875e-05" iyz="0.0" izz="7.66875e-05" />
    </inertial>
  </link>

  <joint name="white_key_72_joint" type="revolute">
    <parent link="base" />
    <child link="white_key_72" />
    <origin xyz="-0.075 0.38775000000000004 0.01125" rpy="0 0 0" />
    <axis xyz="0 1 0" />
    <limit lower="0" upper="0.06656816377582381" effort="10.00" velocity="6.67" />
  </joint>

  <link name="white_key_74">
    <visual>
      <origin xyz="0.075 0 0" rpy="0 0 0" />
      <geometry>
        <box size="0.15 0.0225 0.0225" />
      </geometry>
      <material name="white" />
    </visual>
    <collision>
      <origin xyz="0.075 0 0" rpy="0 0 0" />
      <geometry>
        <box size="0.15 0.0225 0.0225" />
      </geometry>
    </collision>
    <inertial>
      <origin xyz="0.075 0 0" rpy="0 0 0" />
      <mass value="0.04" />
      <inertia ixx="3.3750000000000003e-06" ixy="0.0" ixz="0.0" iyy="7.66875e-05" iyz="0.0" izz="7.66875e-05" />
    </inertial>
  </link>

  <joint name="white_key_74_joint" type="revolute">
    <parent link="base" />
    <child link="white_key_74" />
    <origin xyz="-0.075 0.41125 0.01125" rpy="0 0 0" />
    <axis xyz="0 1 0" />
    <limit lower="0" upper="0.06656816377582381" effort="10.00" velocity="6.67" />
  </joint>

  <link name="white_key_75">
    <visual>
      <origin xyz="0.075 0 0" rpy="0 0 0" />
      <geometry>
        <box size="0.15 0.0225 0.0225" />
      </geometry>
      <material name="white" />
    </visual>
    <collision>
      <origin xyz="0.075 0 0" rpy="0 0 0" />
      <geometry>
        <box size="0.15 0.0225 0.0225" />
      </geometry>
    </collision>
    <inertial>
      <origin xyz="0.075 0 0" rpy="0 0 0" />
      <mass value="0.04" />
      <inertia ixx="3.3750000000000003e-06" ixy="0.0" ixz="0.0" iyy="7.66875e-05" iyz="0.0" izz="7.66875e-05" />
    </inertial>
  </link>

  <joint name="white_key_75_joint" type="revolute">
    <parent link="base" />
    <child link="white_key_75" />
    <origin xyz="-0.075 0.4347500000000001 0.01125" rpy="0 0 0" />
    <axis xyz="0 1 0" />
    <limit lower="0" upper="0.06656816377582381" effort="10.00" velocity="6.67" />
  </joint>

  <link name="white_key_77">
    <visual>
      <origin xyz="0.075 0 0" rpy="0 0 0" />
      <geometry>
        <box size="0.15 0.0225 0.0225" />
      </geometry>
      <material name="white" />
    </visual>
    <collision>
      <origin xyz="0.075 0 0" rpy="0 0 0" />
      <geometry>
        <box size="0.15 0.0225 0.0225" />
      </geometry>
    </collision>
    <inertial>
      <origin xyz="0.075 0 0" rpy="0 0 0" />
      <mass value="0.04" />
      <inertia ixx="3.3750000000000003e-06" ixy="0.0" ixz="0.0" iyy="7.66875e-05" iyz="0.0" izz="7.66875e-05" />
    </inertial>
  </link>

  <joint name="white_key_77_joint" type="revolute">
    <parent link="base" />
    <child link="white_key_77" />
    <origin xyz="-0.075 0.45825000000000016 0.01125" rpy="0 0 0" />
    <axis xyz="0 1 0" />
    <limit lower="0" upper="0.06656816377582381" effort="10.00" velocity="6.67" />
  </joint>

  <link name="white_key_79">
    <visual>
      <origin xyz="0.075 0 0" rpy="0 0 0" />
      <geometry>
        <box size="0.15 0.0225 0.0225" />
      </geometry>
      <material name="white" />
    </visual>
    <collision>
      <origin xyz="0.075 0 0" rpy="0 0 0" />
      <geometry>
        <box size="0.15 0.0225 0.0225" />
      </geometry>
    </collision>
    <inertial>
      <origin xyz="0.075 0 0" rpy="0 0 0" />
      <mass value="0.04" />
      <inertia ixx="3.3750000000000003e-06" ixy="0.0" ixz="0.0" iyy="7.66875e-05" iyz="0.0" izz="7.66875e-05" />
    </inertial>
  </link>

  <joint name="white_key_79_joint" type="revolute">
    <parent link="base" />
    <child link="white_key_79" />
    <origin xyz="-0.075 0.48175 0.01125" rpy="0 0 0" />
    <axis xyz="0 1 0" />
    <limit lower="0" upper="0.06656816377582381" effort="10.00" velocity="6.67" />
  </joint>

  <link name="white_key_80">
    <visual>
      <origin xyz="0.075 0 0" rpy="0 0 0" />
      <geometry>
        <box size="0.15 0.0225 0.0225" />
      </geometry>
      <material name="white" />
    </visual>
    <collision>
      <origin xyz="0.075 0 0" rpy="0 0 0" />
      <geometry>
        <box size="0.15 0.0225 0.0225" />
      </geometry>
    </collision>
    <inertial>
      <origin xyz="0.075 0 0" rpy="0 0 0" />
      <mass value="0.04" />
      <inertia ixx="3.3750000000000003e-06" ixy="0.0" ixz="0.0" iyy="7.66875e-05" iyz="0.0" izz="7.66875e-05" />
    </inertial>
  </link>

  <joint name="white_key_80_joint" type="revolute">
    <parent link="base" />
    <child link="white_key_80" />
    <origin xyz="-0.075 0.5052500000000001 0.01125" rpy="0 0 0" />
    <axis xyz="0 1 0" />
    <limit lower="0" upper="0.06656816377582381" effort="10.00" velocity="6.67" />
  </joint>

  <link name="white_key_82">
    <visual>
      <origin xyz="0.075 0 0" rpy="0 0 0" />
      <geometry>
        <box size="0.15 0.0225 0.0225" />
      </geometry>
      <material name="white" />
    </visual>
    <collision>
      <origin xyz="0.075 0 0" rpy="0 0 0" />
      <geometry>
        <box size="0.15 0.0225 0.0225" />
      </geometry>
    </collision>
    <inertial>
      <origin xyz="0.075 0 0" rpy="0 0 0" />
      <mass value="0.04" />
      <inertia ixx="3.3750000000000003e-06" ixy="0.0" ixz="0.0" iyy="7.66875e-05" iyz="0.0" izz="7.66875e-05" />
    </inertial>
  </link>

  <joint name="white_key_82_joint" type="revolute">
    <parent link="base" />
    <child link="white_key_82" />
    <origin xyz="-0.075 0.5287500000000002 0.01125" rpy="0 0 0" />
    <axis xyz="0 1 0" />
    <limit lower="0" upper="0.06656816377582381" effort="10.00" velocity="6.67" />
  </joint>

  <link name="white_key_84">
    <visual>
      <origin xyz="0.075 0 0" rpy="0 0 0" />
      <geometry>
        <box size="0.15 0.0225 0.0225" />
      </geometry>
      <material name="white" />
    </visual>
    <collision>
      <origin xyz="0.075 0 0" rpy="0 0 0" />
      <geometry>
        <box size="0.15 0.0225 0.0225" />
      </geometry>
    </collision>
    <inertial>
      <origin xyz="0.075 0 0" rpy="0 0 0" />
      <mass value="0.04" />
      <inertia ixx="3.3750000000000003e-06" ixy="0.0" ixz="0.0" iyy="7.66875e-05" iyz="0.0" izz="7.66875e-05" />
    </inertial>
  </link>

  <joint name="white_key_84_joint" type="revolute">
    <parent link="base" />
    <child link="white_key_84" />
    <origin xyz="-0.075 0.55225 0.01125" rpy="0 0 0" />
    <axis xyz="0 1 0" />
    <limit lower="0" upper="0.06656816377582381" effort="10.00" velocity="6.67" />
  </joint>

  <link name="white_key_86">
    <visual>
      <origin xyz="0.075 0 0" rpy="0 0 0" />
      <geometry>
        <box size="0.15 0.0225 0.0225" />
      </geometry>
      <material name="white" />
    </visual>
    <collision>
      <origin xyz="0.075 0 0" rpy="0 0 0" />
      <geometry>
        <box size="0.15 0.0225 0.0225" />
      </geometry>
    </collision>
    <inertial>
      <origin xyz="0.075 0 0" rpy="0 0 0" />
      <mass value="0.04" />
      <inertia ixx="3.3750000000000003e-06" ixy="0.0" ixz="0.0" iyy="7.66875e-05" iyz="0.0" izz="7.66875e-05" />
    </inertial>
  </link>

  <joint name="white_key_86_joint" type="revolute">
    <parent link="base" />
    <child link="white_key_86" />
    <origin xyz="-0.075 0.5757500000000001 0.01125" rpy="0 0 0" />
    <axis xyz="0 1 0" />
    <limit lower="0" upper="0.06656816377582381" effort="10.00" velocity="6.67" />
  </joint>

  <link name="white_key_87">
    <visual>
      <origin xyz="0.075 0 0" rpy="0 0 0" />
      <geometry>
        <box size="0.15 0.0225 0.0225" />
      </geometry>
      <material name="white" />
    </visual>
    <collision>
      <origin xyz="0.075 0 0" rpy="0 0 0" />
      <geometry>
        <box size="0.15 0.0225 0.0225" />
      </geometry>
    </collision>
    <inertial>
      <origin xyz="0.075 0 0" rpy="0 0 0" />
      <mass value="0.04" />
      <inertia ixx="3.3750000000000003e-06" ixy="0.0" ixz="0.0" iyy="7.66875e-05" iyz="0.0" izz="7.66875e-05" />
    </inertial>
  </link>

  <joint name="white_key_87_joint" type="revolute">
    <parent link="base" />
    <child link="white_key_87" />
    <origin xyz="-0.075 0.59925 0.01125" rpy="0 0 0" />
    <axis xyz="0 1 0" />
    <limit lower="0" upper="0.06656816377582381" effort="10.00" velocity="6.67" />
  </joint>

  <link name="black_key_1">
    <visual>
      <origin xyz="0.045 0 0" rpy="0 0 0" />
      <geometry>
        <box size="0.09 0.01 0.018" />
      </geometry>
      <material name="black" />
    </visual>
    <collision>
      <origin xyz="0.045 0 0" rpy="0 0 0" />
      <geometry>
        <box size="0.09 0.01 0.018" />
      </geometry>
    </collision>
    <inertial>
      <origin xyz="0.045 0 0" rpy="0 0 0" />
      <mass value="0.02" />
      <inertia ixx="7.066666666666665e-07" ixy="0.0" ixz="0.0" iyy="1.404e-05" iyz="0.0" izz="1.3666666666666664e-05" />
    </inertial>
  </link>

  <joint name="black_key_1_joint" type="revolute">
    <parent link="base" />
    <child link="black_key_1" />
    <origin xyz="-0.075 -0.5875 0.026000000000000002" rpy="0 0 0" />
    <axis xyz="0 1 0" />
    <limit lower="0" upper="0.08865588186743747" effort="10.00" velocity="6.67" />
  </joint>

  <link name="black_key_4">
    <visual>
      <origin xyz="0.045 0 0" rpy="0 0 0" />
      <geometry>
        <box size="0.09 0.01 0.018" />
      </geometry>
      <material name="black" />
    </visual>
    <collision>
      <origin xyz="0.045 0 0" rpy="0 0 0" />
      <geometry>
        <box size="0.09 0.01 0.018" />
      </geometry>
    </collision>
    <inertial>
      <origin xyz="0.045 0 0" rpy="0 0 0" />
      <mass value="0.02" />
      <inertia ixx="7.066666666666665e-07" ixy="0.0" ixz="0.0" iyy="1.404e-05" iyz="0.0" izz="1.3666666666666664e-05" />
    </inertial>
  </link>

  <joint name="black_key_4_joint" type="revolute">
    <parent link="base" />
    <child link="black_key_4" />
    <origin xyz="-0.075 -0.5399999999999999 0.026000000000000002" rpy="0 0 0" />
    <axis xyz="0 1 0" />
    <limit lower="0" upper="0.08865588186743747" effort="10.00" velocity="6.67" />
  </joint>

  <link name="black_key_6">
    <visual>
      <origin xyz="0.045 0 0" rpy="0 0 0" />
      <geometry>
        <box size="0.09 0.01 0.018" />
      </geometry>
      <material name="black" />
    </visual>
    <collision>
      <origin xyz="0.045 0 0" rpy="0 0 0" />
      <geometry>
        <box size="0.09 0.01 0.018" />
      </geometry>
    </collision>
    <inertial>
      <origin xyz="0.045 0 0" rpy="0 0 0" />
      <mass value="0.02" />
      <inertia ixx="7.066666666666665e-07" ixy="0.0" ixz="0.0" iyy="1.404e-05" iyz="0.0" izz="1.3666666666666664e-05" />
    </inertial>
  </link>

  <joint name="black_key_6_joint" type="revolute">
    <parent link="base" />
    <child link="black_key_6" />
    <origin xyz="-0.075 -0.5164999999999998 0.026000000000000002" rpy="0 0 0" />
    <axis xyz="0 1 0" />
    <limit lower="0" upper="0.08865588186743747" effort="10.00" velocity="6.67" />
  </joint>

  <link name="black_key_16">
    <visual>
      <origin xyz="0.045 0 0" rpy="0 0 0" />
      <geometry>
        <box size="0.09 0.01 0.018" />
      </geometry>
      <material name="black" />
    </visual>
    <collision>
      <origin xyz="0.045 0 0" rpy="0 0 0" />
      <geometry>
        <box size="0.09 0.01 0.018" />
      </geometry>
    </collision>
    <inertial>
      <origin xyz="0.045 0 0" rpy="0 0 0" />
      <mass value="0.02" />
      <inertia ixx="7.066666666666665e-07" ixy="0.0" ixz="0.0" iyy="1.404e-05" iyz="0.0" izz="1.3666666666666664e-05" />
    </inertial>
  </link>

  <joint name="black_key_16_joint" type="revolute">
    <parent link="base" />
    <child link="black_key_16" />
    <origin xyz="-0.075 -0.37549999999999994 0.026000000000000002" rpy="0 0 0" />
    <axis xyz="0 1 0" />
    <limit lower="0" upper="0.08865588186743747" effort="10.00" velocity="6.67" />
  </joint>

  <link name="black_key_18">
    <visual>
      <origin xyz="0.045 0 0" rpy="0 0 0" />
      <geometry>
        <box size="0.09 0.01 0.018" />
      </geometry>
      <material name="black" />
    </visual>
    <collision>
      <origin xyz="0.045 0 0" rpy="0 0 0" />
      <geometry>
        <box size="0.09 0.01 0.018" />
      </geometry>
    </collision>
    <inertial>
      <origin xyz="0.045 0 0" rpy="0 0 0" />
      <mass value="0.02" />
      <inertia ixx="7.066666666666665e-07" ixy="0.0" ixz="0.0" iyy="1.404e-05" iyz="0.0" izz="1.3666666666666664e-05" />
    </inertial>
  </link>

  <joint name="black_key_18_joint" type="revolute">
    <parent link="base" />
    <child link="black_key_18" />
    <origin xyz="-0.075 -0.35199999999999987 0.026000000000000002" rpy="0 0 0" />
    <axis xyz="0 1 0" />
    <limit lower="0" upper="0.08865588186743747" effort="10.00" velocity="6.67" />
  </joint>

  <link name="black_key_28">
    <visual>
      <origin xyz="0.045 0 0" rpy="0 0 0" />
      <geometry>
        <box size="0.09 0.01 0.018" />
      </geometry>
      <material name="black" />
    </visual>
    <collision>
      <origin xyz="0.045 0 0" rpy="0 0 0" />
      <geometry>
        <box size="0.09 0.01 0.018" />
      </geometry>
    </collision>
    <inertial>
      <origin xyz="0.045 0 0" rpy="0 0 0" />
      <mass value="0.02" />
      <inertia ixx="7.066666666666665e-07" ixy="0.0" ixz="0.0" iyy="1.404e-05" iyz="0.0" izz="1.3666666666666664e-05" />
    </inertial>
  </link>

  <joint name="black_key_28_joint" type="revolute">
    <parent link="base" />
    <child link="black_key_28" />
    <origin xyz="-0.075 -0.21099999999999997 0.026000000000000002" rpy="0 0 0" />
    <axis xyz="0 1 0" />
    <limit lower="0" upper="0.08865588186743747" effort="10.00" velocity="6.67" />
  </joint>

  <link name="black_key_30">
    <visual>
      <origin xyz="0.045 0 0" rpy="0 0 0" />
      <geometry>
        <box size="0.09 0.01 0.018" />
      </geometry>
      <material name="black" />
    </visual>
    <collision>
      <origin xyz="0.045 0 0" rpy="0 0 0" />
      <geometry>
        <box size="0.09 0.01 0.018" />
      </geometry>
    </collision>
    <inertial>
      <origin xyz="0.045 0 0" rpy="0 0 0" />
      <mass value="0.02" />
      <inertia ixx="7.066666666666665e-07" ixy="0.0" ixz="0.0" iyy="1.404e-05" iyz="0.0" izz="1.3666666666666664e-05" />
    </inertial>
  </link>

  <joint name="black_key_30_joint" type="revolute">
    <parent link="base" />
    <child link="black_key_30" />
    <origin xyz="-0.075 -0.1874999999999999 0.026000000000000002" rpy="0 0 0" />
    <axis xyz="0 1 0" />
    <limit lower="0" upper="0.08865588186743747" effort="10.00" velocity="6.67" />
  </joint>

  <link name="black_key_40">
    <visual>
      <origin xyz="0.045 0 0" rpy="0 0 0" />
      <geometry>
        <box size="0.09 0.01 0.018" />
      </geometry>
      <material name="black" />
    </visual>
    <collision>
      <origin xyz="0.045 0 0" rpy="0 0 0" />
      <geometry>
        <box size="0.09 0.01 0.018" />
      </geometry>
    </collision>
    <inertial>
      <origin xyz="0.045 0 0" rpy="0 0 0" />
      <mass value="0.02" />
      <inertia ixx="7.066666666666665e-07" ixy="0.0" ixz="0.0" iyy="1.404e-05" iyz="0.0" izz="1.3666666666666664e-05" />
    </inertial>
  </link>

  <joint name="black_key_40_joint" type="revolute">
    <parent link="base" />
    <child link="black_key_40" />
    <origin xyz="-0.075 -0.046499999999999986 0.026000000000000002" rpy="0 0 0" />
    <axis xyz="0 1 0" />
    <limit lower="0" upper="0.08865588186743747" effort="10.00" velocity="6.67" />
  </joint>

  <link name="black_key_42">
    <visual>
      <origin xyz="0.045 0 0" rpy="0 0 0" />
      <geometry>
        <box size="0.09 0.01 0.018" />
      </geometry>
      <material name="black" />
    </visual>
    <collision>
      <origin xyz="0.045 0 0" rpy="0 0 0" />
      <geometry>
        <box size="0.09 0.01 0.018" />
      </geometry>
    </collision>
    <inertial>
      <origin xyz="0.045 0 0" rpy="0 0 0" />
      <mass value="0.02" />
      <inertia ixx="7.066666666666665e-07" ixy="0.0" ixz="0.0" iyy="1.404e-05" iyz="0.0" izz="1.3666666666666664e-05" />
    </inertial>
  </link>

  <joint name="black_key_42_joint" type="revolute">
    <parent link="base" />
    <child link="black_key_42" />
    <origin xyz="-0.075 -0.02299999999999991 0.026000000000000002" rpy="0 0 0" />
    <axis xyz="0 1 0" />
    <limit lower="0" upper="0.08865588186743747" effort="10.00" velocity="6.67" />
  </joint>

  <link name="black_key_52">
    <visual>
      <origin xyz="0.045 0 0" rpy="0 0 0" />
      <geometry>
        <box size="0.09 0.01 0.018" />
      </geometry>
      <material name="black" />
    </visual>
    <collision>
      <origin xyz="0.045 0 0" rpy="0 0 0" />
      <geometry>
        <box size="0.09 0.01 0.018" />
      </geometry>
    </collision>
    <inertial>
      <origin xyz="0.045 0 0" rpy="0 0 0" />
      <mass value="0.02" />
      <inertia ixx="7.066666666666665e-07" ixy="0.0" ixz="0.0" iyy="1.404e-05" iyz="0.0" izz="1.3666666666666664e-05" />
    </inertial>
  </link>

  <joint name="black_key_52_joint" type="revolute">
    <parent link="base" />
    <child link="black_key_52" />
    <origin xyz="-0.075 0.118 0.026000000000000002" rpy="0 0 0" />
    <axis xyz="0 1 0" />
    <limit lower="0" upper="0.08865588186743747" effort="10.00" velocity="6.67" />
  </joint>

  <link name="black_key_54">
    <visual>
      <origin xyz="0.045 0 0" rpy="0 0 0" />
      <geometry>
        <box size="0.09 0.01 0.018" />
      </geometry>
      <material name="black" />
    </visual>
    <collision>
      <origin xyz="0.045 0 0" rpy="0 0 0" />
      <geometry>
        <box size="0.09 0.01 0.018" />
      </geometry>
    </collision>
    <inertial>
      <origin xyz="0.045 0 0" rpy="0 0 0" />
      <mass value="0.02" />
      <inertia ixx="7.066666666666665e-07" ixy="0.0" ixz="0.0" iyy="1.404e-05" iyz="0.0" izz="1.3666666666666664e-05" />
    </inertial>
  </link>

  <joint name="black_key_54_joint" type="revolute">
    <parent link="base" />
    <child link="black_key_54" />
    <origin xyz="-0.075 0.14150000000000007 0.026000000000000002" rpy="0 0 0" />
    <axis xyz="0 1 0" />
    <limit lower="0" upper="0.08865588186743747" effort="10.00" velocity="6.67" />
  </joint>

  <link name="black_key_64">
    <visual>
      <origin xyz="0.045 0 0" rpy="0 0 0" />
      <geometry>
        <box size="0.09 0.01 0.018" />
      </geometry>
      <material name="black" />
    </visual>
    <collision>
      <origin xyz="0.045 0 0" rpy="0 0 0" />
      <geometry>
        <box size="0.09 0.01 0.018" />
      </geometry>
    </collision>
    <inertial>
      <origin xyz="0.045 0 0" rpy="0 0 0" />
      <mass value="0.02" />
      <inertia ixx="7.066666666666665e-07" ixy="0.0" ixz="0.0" iyy="1.404e-05" iyz="0.0" izz="1.3666666666666664e-05" />
    </inertial>
  </link>

  <joint name="black_key_64_joint" type="revolute">
    <parent link="base" />
    <child link="black_key_64" />
    <origin xyz="-0.075 0.2825000000000001 0.026000000000000002" rpy="0 0 0" />
    <axis xyz="0 1 0" />
    <limit lower="0" upper="0.08865588186743747" effort="10.00" velocity="6.67" />
  </joint>

  <link name="black_key_66">
    <visual>
      <origin xyz="0.045 0 0" rpy="0 0 0" />
      <geometry>
        <box size="0.09 0.01 0.018" />
      </geometry>
      <material name="black" />
    </visual>
    <collision>
      <origin xyz="0.045 0 0" rpy="0 0 0" />
      <geometry>
        <box size="0.09 0.01 0.018" />
      </geometry>
    </collision>
    <inertial>
      <origin xyz="0.045 0 0" rpy="0 0 0" />
      <mass value="0.02" />
      <inertia ixx="7.066666666666665e-07" ixy="0.0" ixz="0.0" iyy="1.404e-05" iyz="0.0" izz="1.3666666666666664e-05" />
    </inertial>
  </link>

  <joint name="black_key_66_joint" type="revolute">
    <parent link="base" />
    <child link="black_key_66" />
    <origin xyz="-0.075 0.30600000000000016 0.026000000000000002" rpy="0 0 0" />
    <axis xyz="0 1 0" />
    <limit lower="0" upper="0.08865588186743747" effort="10.00" velocity="6.67" />
  </joint>

  <link name="black_key_76">
    <visual>
      <origin xyz="0.045 0 0" rpy="0 0 0" />
      <geometry>
        <box size="0.09 0.01 0.018" />
      </geometry>
      <material name="black" />
    </visual>
    <collision>
      <origin xyz="0.045 0 0" rpy="0 0 0" />
      <geometry>
        <box size="0.09 0.01 0.018" />
      </geometry>
    </collision>
    <inertial>
      <origin xyz="0.045 0 0" rpy="0 0 0" />
      <mass value="0.02" />
      <inertia ixx="7.066666666666665e-07" ixy="0.0" ixz="0.0" iyy="1.404e-05" iyz="0.0" izz="1.3666666666666664e-05" />
    </inertial>
  </link>

  <joint name="black_key_76_joint" type="revolute">
    <parent link="base" />
    <child link="black_key_76" />
    <origin xyz="-0.075 0.44700000000000006 0.026000000000000002" rpy="0 0 0" />
    <axis xyz="0 1 0" />
    <limit lower="0" upper="0.08865588186743747" effort="10.00" velocity="6.67" />
  </joint>

  <link name="black_key_78">
    <visual>
      <origin xyz="0.045 0 0" rpy="0 0 0" />
      <geometry>
        <box size="0.09 0.01 0.018" />
      </geometry>
      <material name="black" />
    </visual>
    <collision>
      <origin xyz="0.045 0 0" rpy="0 0 0" />
      <geometry>
        <box size="0.09 0.01 0.018" />
      </geometry>
    </collision>
    <inertial>
      <origin xyz="0.045 0 0" rpy="0 0 0" />
      <mass value="0.02" />
      <inertia ixx="7.066666666666665e-07" ixy="0.0" ixz="0.0" iyy="1.404e-05" iyz="0.0" izz="1.3666666666666664e-05" />
    </inertial>
  </link>

  <joint name="black_key_78_joint" type="revolute">
    <parent link="base" />
    <child link="black_key_78" />
    <origin xyz="-0.075 0.47050000000000014 0.026000000000000002" rpy="0 0 0" />
    <axis xyz="0 1 0" />
    <limit lower="0" upper="0.08865588186743747" effort="10.00" velocity="6.67" />
  </joint>

  <link name="black_key_9">
    <visual>
      <origin xyz="0.045 0 0" rpy="0 0 0" />
      <geometry>
        <box size="0.09 0.01 0.018" />
      </geometry>
      <material name="black" />
    </visual>
    <collision>
      <origin xyz="0.045 0 0" rpy="0 0 0" />
      <geometry>
        <box size="0.09 0.01 0.018" />
      </geometry>
    </collision>
    <inertial>
      <origin xyz="0.045 0 0" rpy="0 0 0" />
      <mass value="0.02" />
      <inertia ixx="7.066666666666665e-07" ixy="0.0" ixz="0.0" iyy="1.404e-05" iyz="0.0" izz="1.3666666666666664e-05" />
    </inertial>
  </link>

  <joint name="black_key_9_joint" type="revolute">
    <parent link="base" />
    <child link="black_key_9" />
    <origin xyz="-0.075 -0.4695 0.026000000000000002" rpy="0 0 0" />
    <axis xyz="0 1 0" />
    <limit lower="0" upper="0.08865588186743747" effort="10.00" velocity="6.67" />
  </joint>

  <link name="black_key_11">
    <visual>
      <origin xyz="0.045 0 0" rpy="0 0 0" />
      <geometry>
        <box size="0.09 0.01 0.018" />
      </geometry>
      <material name="black" />
    </visual>
    <collision>
      <origin xyz="0.045 0 0" rpy="0 0 0" />
      <geometry>
        <box size="0.09 0.01 0.018" />
      </geometry>
    </collision>
    <inertial>
      <origin xyz="0.045 0 0" rpy="0 0 0" />
      <mass value="0.02" />
      <inertia ixx="7.066666666666665e-07" ixy="0.0" ixz="0.0" iyy="1.404e-05" iyz="0.0" izz="1.3666666666666664e-05" />
    </inertial>
  </link>

  <joint name="black_key_11_joint" type="revolute">
    <parent link="base" />
    <child link="black_key_11" />
    <origin xyz="-0.075 -0.4459999999999999 0.026000000000000002" rpy="0 0 0" />
    <axis xyz="0 1 0" />
    <limit lower="0" upper="0.08865588186743747" effort="10.00" velocity="6.67" />
  </joint>

  <link name="black_key_13">
    <visual>
      <origin xyz="0.045 0 0" rpy="0 0 0" />
      <geometry>
        <box size="0.09 0.01 0.018" />
      </geometry>
      <material name="black" />
    </visual>
    <collision>
      <origin xyz="0.045 0 0" rpy="0 0 0" />
      <geometry>
        <box size="0.09 0.01 0.018" />
      </geometry>
    </collision>
    <inertial>
      <origin xyz="0.045 0 0" rpy="0 0 0" />
      <mass value="0.02" />
      <inertia ixx="7.066666666666665e-07" ixy="0.0" ixz="0.0" iyy="1.404e-05" iyz="0.0" izz="1.3666666666666664e-05" />
    </inertial>
  </link>

  <joint name="black_key_13_joint" type="revolute">
    <parent link="base" />
    <child link="black_key_13" />
    <origin xyz="-0.075 -0.42249999999999993 0.026000000000000002" rpy="0 0 0" />
    <axis xyz="0 1 0" />
    <limit lower="0" upper="0.08865588186743747" effort="10.00" velocity="6.67" />
  </joint>

  <link name="black_key_21">
    <visual>
      <origin xyz="0.045 0 0" rpy="0 0 0" />
      <geometry>
        <box size="0.09 0.01 0.018" />
      </geometry>
      <material name="black" />
    </visual>
    <collision>
      <origin xyz="0.045 0 0" rpy="0 0 0" />
      <geometry>
        <box size="0.09 0.01 0.018" />
      </geometry>
    </collision>
    <inertial>
      <origin xyz="0.045 0 0" rpy="0 0 0" />
      <mass value="0.02" />
      <inertia ixx="7.066666666666665e-07" ixy="0.0" ixz="0.0" iyy="1.404e-05" iyz="0.0" izz="1.3666666666666664e-05" />
    </inertial>
  </link>

  <joint name="black_key_21_joint" type="revolute">
    <parent link="base" />
    <child link="black_key_21" />
    <origin xyz="-0.075 -0.30499999999999994 0.026000000000000002" rpy="0 0 0" />
    <axis xyz="0 1 0" />
    <limit lower="0" upper="0.08865588186743747" effort="10.00" velocity="6.67" />
  </joint>

  <link name="black_key_23">
    <visual>
      <origin xyz="0.045 0 0" rpy="0 0 0" />
      <geometry>
        <box size="0.09 0.01 0.018" />
      </geometry>
      <material name="black" />
    </visual>
    <collision>
      <origin xyz="0.045 0 0" rpy="0 0 0" />
      <geometry>
        <box size="0.09 0.01 0.018" />
      </geometry>
    </collision>
    <inertial>
      <origin xyz="0.045 0 0" rpy="0 0 0" />
      <mass value="0.02" />
      <inertia ixx="7.066666666666665e-07" ixy="0.0" ixz="0.0" iyy="1.404e-05" iyz="0.0" izz="1.3666666666666664e-05" />
    </inertial>
  </link>

  <joint name="black_key_23_joint" type="revolute">
    <parent link="base" />
    <child link="black_key_23" />
    <origin xyz="-0.075 -0.28149999999999986 0.026000000000000002" rpy="0 0 0" />
    <axis xyz="0 1 0" />
    <limit lower="0" upper="0.08865588186743747" effort="10.00" velocity="6.67" />
  </joint>

  <link name="black_key_25">
    <visual>
      <origin xyz="0.045 0 0" rpy="0 0 0" />
      <geometry>
        <box size="0.09 0.01 0.018" />
      </geometry>
      <material name="black" />
    </visual>
    <collision>
      <origin xyz="0.045 0 0" rpy="0 0 0" />
      <geometry>
        <box size="0.09 0.01 0.018" />
      </geometry>
    </collision>
    <inertial>
      <origin xyz="0.045 0 0" rpy="0 0 0" />
      <mass value="0.02" />
      <inertia ixx="7.066666666666665e-07" ixy="0.0" ixz="0.0" iyy="1.404e-05" iyz="0.0" izz="1.3666666666666664e-05" />
    </inertial>
  </link>

  <joint name="black_key_25_joint" type="revolute">
    <parent link="base" />
    <child link="black_key_25" />
    <origin xyz="-0.075 -0.2579999999999999 0.026000000000000002" rpy="0 0 0" />
    <axis xyz="0 1 0" />
    <limit lower="0" upper="0.08865588186743747" effort="10.00" velocity="6.67" />
  </joint>

  <link name="black_key_33">
    <visual>
      <origin xyz="0.045 0 0" rpy="0 0 0" />
      <geometry>
        <box size="0.09 0.01 0.018" />
      </geometry>
      <material name="black" />
    </visual>
    <collision>
      <origin xyz="0.045 0 0" rpy="0 0 0" />
      <geometry>
        <box size="0.09 0.01 0.018" />
      </geometry>
    </collision>
    <inertial>
      <origin xyz="0.045 0 0" rpy="0 0 0" />
      <mass value="0.02" />
      <inertia ixx="7.066666666666665e-07" ixy="0.0" ixz="0.0" iyy="1.404e-05" iyz="0.0" izz="1.3666666666666664e-05" />
    </inertial>
  </link>

  <joint name="black_key_33_joint" type="revolute">
    <parent link="base" />
    <child link="black_key_33" />
    <origin xyz="-0.075 -0.14049999999999996 0.026000000000000002" rpy="0 0 0" />
    <axis xyz="0 1 0" />
    <limit lower="0" upper="0.08865588186743747" effort="10.00" velocity="6.67" />
  </joint>

  <link name="black_key_35">
    <visual>
      <origin xyz="0.045 0 0" rpy="0 0 0" />
      <geometry>
        <box size="0.09 0.01 0.018" />
      </geometry>
      <material name="black" />
    </visual>
    <collision>
      <origin xyz="0.045 0 0" rpy="0 0 0" />
      <geometry>
        <box size="0.09 0.01 0.018" />
      </geometry>
    </collision>
    <inertial>
      <origin xyz="0.045 0 0" rpy="0 0 0" />
      <mass value="0.02" />
      <inertia ixx="7.066666666666665e-07" ixy="0.0" ixz="0.0" iyy="1.404e-05" iyz="0.0" izz="1.3666666666666664e-05" />
    </inertial>
  </link>

  <joint name="black_key_35_joint" type="revolute">
    <parent link="base" />
    <child link="black_key_35" />
    <origin xyz="-0.075 -0.11699999999999988 0.026000000000000002" rpy="0 0 0" />
    <axis xyz="0 1 0" />
    <limit lower="0" upper="0.08865588186743747" effort="10.00" velocity="6.67" />
  </joint>

  <link name="black_key_37">
    <visual>
      <origin xyz="0.045 0 0" rpy="0 0 0" />
      <geometry>
        <box size="0.09 0.01 0.018" />
      </geometry>
      <material name="black" />
    </visual>
    <collision>
      <origin xyz="0.045 0 0" rpy="0 0 0" />
      <geometry>
        <box size="0.09 0.01 0.018" />
      </geometry>
    </collision>
    <inertial>
      <origin xyz="0.045 0 0" rpy="0 0 0" />
      <mass value="0.02" />
      <inertia ixx="7.066666666666665e-07" ixy="0.0" ixz="0.0" iyy="1.404e-05" iyz="0.0" izz="1.3666666666666664e-05" />
    </inertial>
  </link>

  <joint name="black_key_37_joint" type="revolute">
    <parent link="base" />
    <child link="black_key_37" />
    <origin xyz="-0.075 -0.09349999999999992 0.026000000000000002" rpy="0 0 0" />
    <axis xyz="0 1 0" />
    <limit lower="0" upper="0.08865588186743747" effort="10.00" velocity="6.67" />
  </joint>

  <link name="black_key_45">
    <visual>
      <origin xyz="0.045 0 0" rpy="0 0 0" />
      <geometry>
        <box size="0.09 0.01 0.018" />
      </geometry>
      <material name="black" />
    </visual>
    <collision>
      <origin xyz="0.045 0 0" rpy="0 0 0" />
      <geometry>
        <box size="0.09 0.01 0.018" />
      </geometry>
    </collision>
    <inertial>
      <origin xyz="0.045 0 0" rpy="0 0 0" />
      <mass value="0.02" />
      <inertia ixx="7.066666666666665e-07" ixy="0.0" ixz="0.0" iyy="1.404e-05" iyz="0.0" izz="1.3666666666666664e-05" />
    </inertial>
  </link>

  <joint name="black_key_45_joint" type="revolute">
    <parent link="base" />
    <child link="black_key_45" />
    <origin xyz="-0.075 0.02400000000000002 0.026000000000000002" rpy="0 0 0" />
    <axis xyz="0 1 0" />
    <limit lower="0" upper="0.08865588186743747" effort="10.00" velocity="6.67" />
  </joint>

  <link name="black_key_47">
    <visual>
      <origin xyz="0.045 0 0" rpy="0 0 0" />
      <geometry>
        <box size="0.09 0.01 0.018" />
      </geometry>
      <material name="black" />
    </visual>
    <collision>
      <origin xyz="0.045 0 0" rpy="0 0 0" />
      <geometry>
        <box size="0.09 0.01 0.018" />
      </geometry>
    </collision>
    <inertial>
      <origin xyz="0.045 0 0" rpy="0 0 0" />
      <mass value="0.02" />
      <inertia ixx="7.066666666666665e-07" ixy="0.0" ixz="0.0" iyy="1.404e-05" iyz="0.0" izz="1.3666666666666664e-05" />
    </inertial>
  </link>

  <joint name="black_key_47_joint" type="revolute">
    <parent link="base" />
    <child link="black_key_47" />
    <origin xyz="-0.075 0.0475000000000001 0.026000000000000002" rpy="0 0 0" />
    <axis xyz="0 1 0" />
    <limit lower="0" upper="0.08865588186743747" effort="10.00" velocity="6.67" />
  </joint>

  <link name="black_key_49">
    <visual>
      <origin xyz="0.045 0 0" rpy="0 0 0" />
      <geometry>
        <box size="0.09 0.01 0.018" />
      </geometry>
      <material name="black" />
    </visual>
    <collision>
      <origin xyz="0.045 0 0" rpy="0 0 0" />
      <geometry>
        <box size="0.09 0.01 0.018" />
      </geometry>
    </collision>
    <inertial>
      <origin xyz="0.045 0 0" rpy="0 0 0" />
      <mass value="0.02" />
      <inertia ixx="7.066666666666665e-07" ixy="0.0" ixz="0.0" iyy="1.404e-05" iyz="0.0" izz="1.3666666666666664e-05" />
    </inertial>
  </link>

  <joint name="black_key_49_joint" type="revolute">
    <parent link="base" />
    <child link="black_key_49" />
    <origin xyz="-0.075 0.07100000000000006 0.026000000000000002" rpy="0 0 0" />
    <axis xyz="0 1 0" />
    <limit lower="0" upper="0.08865588186743747" effort="10.00" velocity="6.67" />
  </joint>

  <link name="black_key_57">
    <visual>
      <origin xyz="0.045 0 0" rpy="0 0 0" />
      <geometry>
        <box size="0.09 0.01 0.018" />
      </geometry>
      <material name="black" />
    </visual>
    <collision>
      <origin xyz="0.045 0 0" rpy="0 0 0" />
      <geometry>
        <box size="0.09 0.01 0.018" />
      </geometry>
    </collision>
    <inertial>
      <origin xyz="0.045 0 0" rpy="0 0 0" />
      <mass value="0.02" />
      <inertia ixx="7.066666666666665e-07" ixy="0.0" ixz="0.0" iyy="1.404e-05" iyz="0.0" izz="1.3666666666666664e-05" />
    </inertial>
  </link>

  <joint name="black_key_57_joint" type="revolute">
    <parent link="base" />
    <child link="black_key_57" />
    <origin xyz="-0.075 0.1885 0.026000000000000002" rpy="0 0 0" />
    <axis xyz="0 1 0" />
    <limit lower="0" upper="0.08865588186743747" effort="10.00" velocity="6.67" />
  </joint>

  <link name="black_key_59">
    <visual>
      <origin xyz="0.045 0 0" rpy="0 0 0" />
      <geometry>
        <box size="0.09 0.01 0.018" />
      </geometry>
      <material name="black" />
    </visual>
    <collision>
      <origin xyz="0.045 0 0" rpy="0 0 0" />
      <geometry>
        <box size="0.09 0.01 0.018" />
      </geometry>
    </collision>
    <inertial>
      <origin xyz="0.045 0 0" rpy="0 0 0" />
      <mass value="0.02" />
      <inertia ixx="7.066666666666665e-07" ixy="0.0" ixz="0.0" iyy="1.404e-05" iyz="0.0" izz="1.3666666666666664e-05" />
    </inertial>
  </link>

  <joint name="black_key_59_joint" type="revolute">
    <parent link="base" />
    <child link="black_key_59" />
    <origin xyz="-0.075 0.21200000000000008 0.026000000000000002" rpy="0 0 0" />
    <axis xyz="0 1 0" />
    <limit lower="0" upper="0.08865588186743747" effort="10.00" velocity="6.67" />
  </joint>

  <link name="black_key_61">
    <visual>
      <origin xyz="0.045 0 0" rpy="0 0 0" />
      <geometry>
        <box size="0.09 0.01 0.018" />
      </geometry>
      <material name="black" />
    </visual>
    <collision>
      <origin xyz="0.045 0 0" rpy="0 0 0" />
      <geometry>
        <box size="0.09 0.01 0.018" />
      </geometry>
    </collision>
    <inertial>
      <origin xyz="0.045 0 0" rpy="0 0 0" />
      <mass value="0.02" />
      <inertia ixx="7.066666666666665e-07" ixy="0.0" ixz="0.0" iyy="1.404e-05" iyz="0.0" izz="1.3666666666666664e-05" />
    </inertial>
  </link>

  <joint name="black_key_61_joint" type="revolute">
    <parent link="base" />
    <child link="black_key_61" />
    <origin xyz="-0.075 0.23550000000000004 0.026000000000000002" rpy="0 0 0" />
    <axis xyz="0 1 0" />
    <limit lower="0" upper="0.08865588186743747" effort="10.00" velocity="6.67" />
  </joint>

  <link name="black_key_69">
    <visual>
      <origin xyz="0.045 0 0" rpy="0 0 0" />
      <geometry>
        <box size="0.09 0.01 0.018" />
      </geometry>
      <material name="black" />
    </visual>
    <collision>
      <origin xyz="0.045 0 0" rpy="0 0 0" />
      <geometry>
        <box size="0.09 0.01 0.018" />
      </geometry>
    </collision>
    <inertial>
      <origin xyz="0.045 0 0" rpy="0 0 0" />
      <mass value="0.02" />
      <inertia ixx="7.066666666666665e-07" ixy="0.0" ixz="0.0" iyy="1.404e-05" iyz="0.0" izz="1.3666666666666664e-05" />
    </inertial>
  </link>

  <joint name="black_key_69_joint" type="revolute">
    <parent link="base" />
    <child link="black_key_69" />
    <origin xyz="-0.075 0.353 0.026000000000000002" rpy="0 0 0" />
    <axis xyz="0 1 0" />
    <limit lower="0" upper="0.08865588186743747" effort="10.00" velocity="6.67" />
  </joint>

  <link name="black_key_71">
    <visual>
      <origin xyz="0.045 0 0" rpy="0 0 0" />
      <geometry>
        <box size="0.09 0.01 0.018" />
      </geometry>
      <material name="black" />
    </visual>
    <collision>
      <origin xyz="0.045 0 0" rpy="0 0 0" />
      <geometry>
        <box size="0.09 0.01 0.018" />
      </geometry>
    </collision>
    <inertial>
      <origin xyz="0.045 0 0" rpy="0 0 0" />
      <mass value="0.02" />
      <inertia ixx="7.066666666666665e-07" ixy="0.0" ixz="0.0" iyy="1.404e-05" iyz="0.0" izz="1.3666666666666664e-05" />
    </inertial>
  </link>

  <joint name="black_key_71_joint" type="revolute">
    <parent link="base" />
    <child link="black_key_71" />
    <origin xyz="-0.075 0.37650000000000006 0.026000000000000002" rpy="0 0 0" />
    <axis xyz="0 1 0" />
    <limit lower="0" upper="0.08865588186743747" effort="10.00" velocity="6.67" />
  </joint>

  <link name="black_key_73">
    <visual>
      <origin xyz="0.045 0 0" rpy="0 0 0" />
      <geometry>
        <box size="0.09 0.01 0.018" />
      </geometry>
      <material name="black" />
    </visual>
    <collision>
      <origin xyz="0.045 0 0" rpy="0 0 0" />
      <geometry>
        <box size="0.09 0.01 0.018" />
      </geometry>
    </collision>
    <inertial>
      <origin xyz="0.045 0 0" rpy="0 0 0" />
      <mass value="0.02" />
      <inertia ixx="7.066666666666665e-07" ixy="0.0" ixz="0.0" iyy="1.404e-05" iyz="0.0" izz="1.3666666666666664e-05" />
    </inertial>
  </link>

  <joint name="black_key_73_joint" type="revolute">
    <parent link="base" />
    <child link="black_key_73" />
    <origin xyz="-0.075 0.4 0.026000000000000002" rpy="0 0 0" />
    <axis xyz="0 1 0" />
    <limit lower="0" upper="0.08865588186743747" effort="10.00" velocity="6.67" />
  </joint>

  <link name="black_key_81">
    <visual>
      <origin xyz="0.045 0 0" rpy="0 0 0" />
      <geometry>
        <box size="0.09 0.01 0.018" />
      </geometry>
      <material name="black" />
    </visual>
    <collision>
      <origin xyz="0.045 0 0" rpy="0 0 0" />
      <geometry>
        <box size="0.09 0.01 0.018" />
      </geometry>
    </collision>
    <inertial>
      <origin xyz="0.045 0 0" rpy="0 0 0" />
      <mass value="0.02" />
      <inertia ixx="7.066666666666665e-07" ixy="0.0" ixz="0.0" iyy="1.404e-05" iyz="0.0" izz="1.3666666666666664e-05" />
    </inertial>
  </link>

  <joint name="black_key_81_joint" type="revolute">
    <parent link="base" />
    <child link="black_key_81" />
    <origin xyz="-0.075 0.5175000000000001 0.026000000000000002" rpy="0 0 0" />
    <axis xyz="0 1 0" />
    <limit lower="0" upper="0.08865588186743747" effort="10.00" velocity="6.67" />
  </joint>

  <link name="black_key_83">
    <visual>
      <origin xyz="0.045 0 0" rpy="0 0 0" />
      <geometry>
        <box size="0.09 0.01 0.018" />
      </geometry>
      <material name="black" />
    </visual>
    <collision>
      <origin xyz="0.045 0 0" rpy="0 0 0" />
      <geometry>
        <box size="0.09 0.01 0.018" />
      </geometry>
    </collision>
    <inertial>
      <origin xyz="0.045 0 0" rpy="0 0 0" />
      <mass value="0.02" />
      <inertia ixx="7.066666666666665e-07" ixy="0.0" ixz="0.0" iyy="1.404e-05" iyz="0.0" izz="1.3666666666666664e-05" />
    </inertial>
  </link>

  <joint name="black_key_83_joint" type="revolute">
    <parent link="base" />
    <child link="black_key_83" />
    <origin xyz="-0.075 0.5410000000000001 0.026000000000000002" rpy="0 0 0" />
    <axis xyz="0 1 0" />
    <limit lower="0" upper="0.08865588186743747" effort="10.00" velocity="6.67" />
  </joint>

  <link name="black_key_85">
    <visual>
      <origin xyz="0.045 0 0" rpy="0 0 0" />
      <geometry>
        <box size="0.09 0.01 0.018" />
      </geometry>
      <material name="black" />
    </visual>
    <collision>
      <origin xyz="0.045 0 0" rpy="0 0 0" />
      <geometry>
        <box size="0.09 0.01 0.018" />
      </geometry>
    </collision>
    <inertial>
      <origin xyz="0.045 0 0" rpy="0 0 0" />
      <mass value="0.02" />
      <inertia ixx="7.066666666666665e-07" ixy="0.0" ixz="0.0" iyy="1.404e-05" iyz="0.0" izz="1.3666666666666664e-05" />
    </inertial>
  </link>

  <joint name="black_key_85_joint" type="revolute">
    <parent link="base" />
    <child link="black_key_85" />
    <origin xyz="-0.075 0.5645000000000001 0.026000000000000002" rpy="0 0 0" />
    <axis xyz="0 1 0" />
    <limit lower="0" upper="0.08865588186743747" effort="10.00" velocity="6.67" />
  </joint>

</robot>
